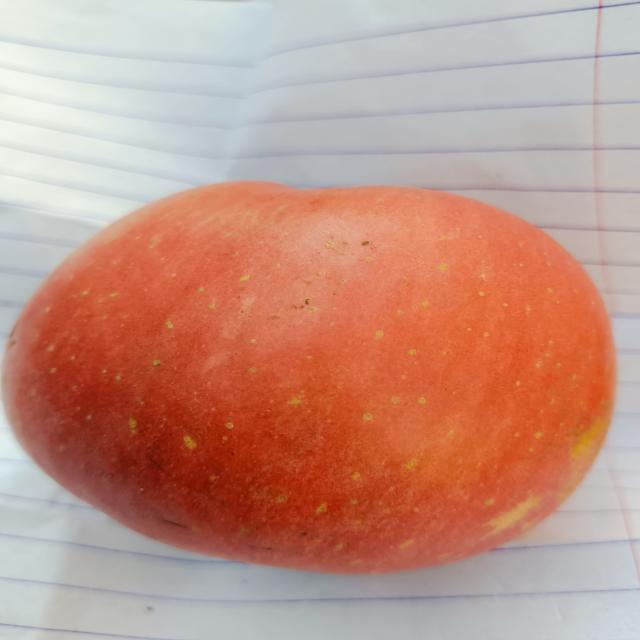Fresh Apple: (16, 182, 626, 568)
